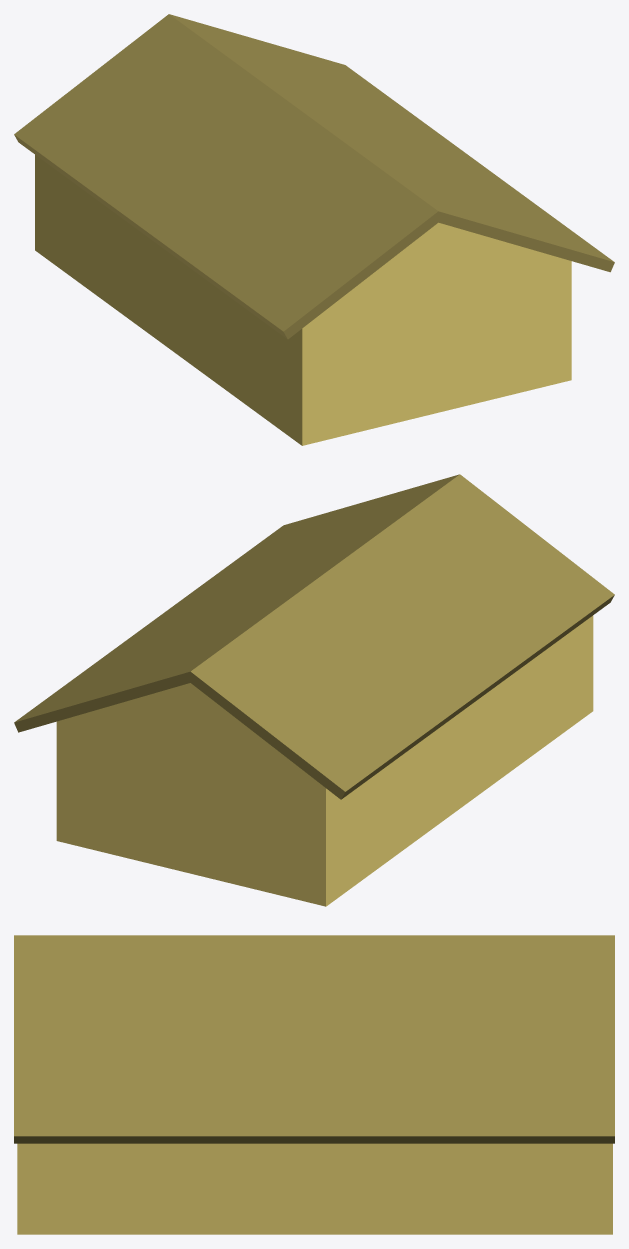
File: result.glb
3 views of the same model, one above another, from view 1: azimuth 30°, elevation 25°; view 2: azimuth 150°, elevation 25°; view 3: azimuth 270°, elevation 25° (orthographic). The views are drawn at different scales.
Visible parts, largest first — view 1: 57d4bef1-9b12-41cb-b761-accba58632a2__undefined (×2), cc21911f-6a71-468e-b631-0cf040f7e861__undefined; view 2: 57d4bef1-9b12-41cb-b761-accba58632a2__undefined (×2), cc21911f-6a71-468e-b631-0cf040f7e861__undefined; view 3: 57d4bef1-9b12-41cb-b761-accba58632a2__undefined, cc21911f-6a71-468e-b631-0cf040f7e861__undefined.
Boxes of the visible parts, x1,y1,x2,y2 form: 57d4bef1-9b12-41cb-b761-accba58632a2__undefined (×2): (14, 14, 614, 339); cc21911f-6a71-468e-b631-0cf040f7e861__undefined: (35, 155, 571, 445); 57d4bef1-9b12-41cb-b761-accba58632a2__undefined (×2): (14, 474, 614, 799); cc21911f-6a71-468e-b631-0cf040f7e861__undefined: (56, 615, 593, 906); 57d4bef1-9b12-41cb-b761-accba58632a2__undefined: (14, 935, 614, 1143); cc21911f-6a71-468e-b631-0cf040f7e861__undefined: (17, 1143, 612, 1234).
Bounding box in the file's own units: 860 × 503 × 1211.
